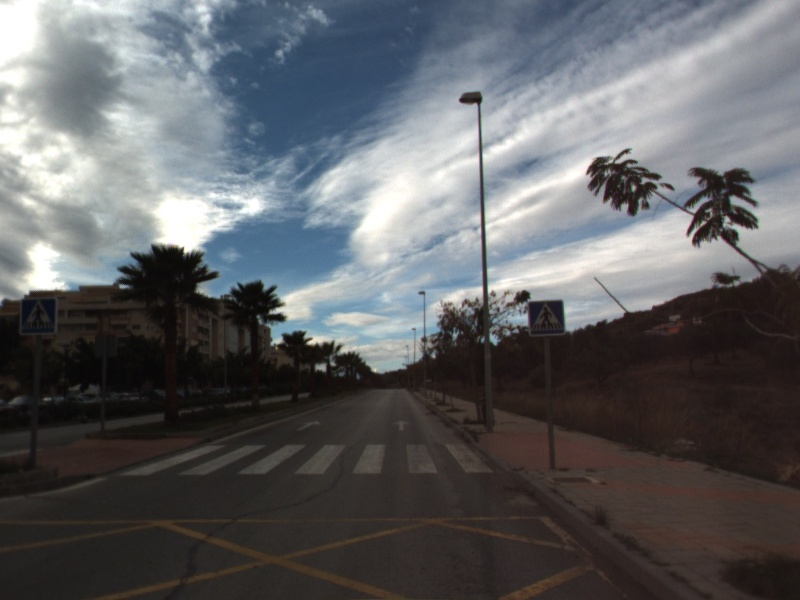STRAIGHT: (294, 418, 322, 433), (391, 418, 413, 432)
